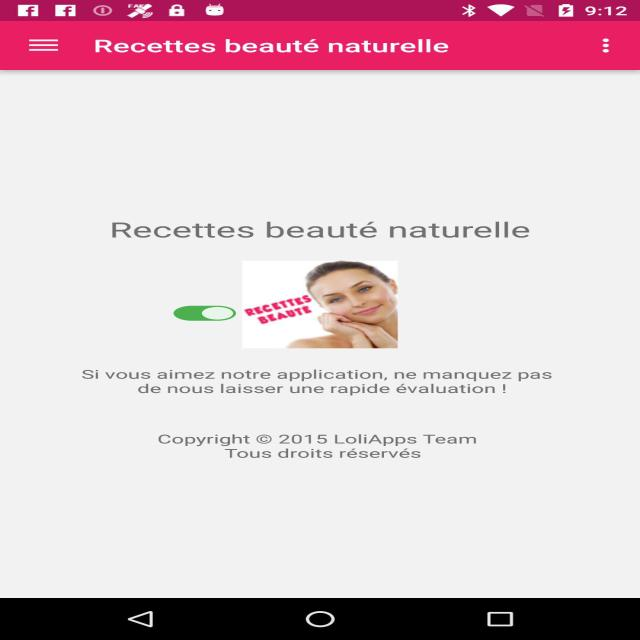social proof: (170, 300, 238, 328)
